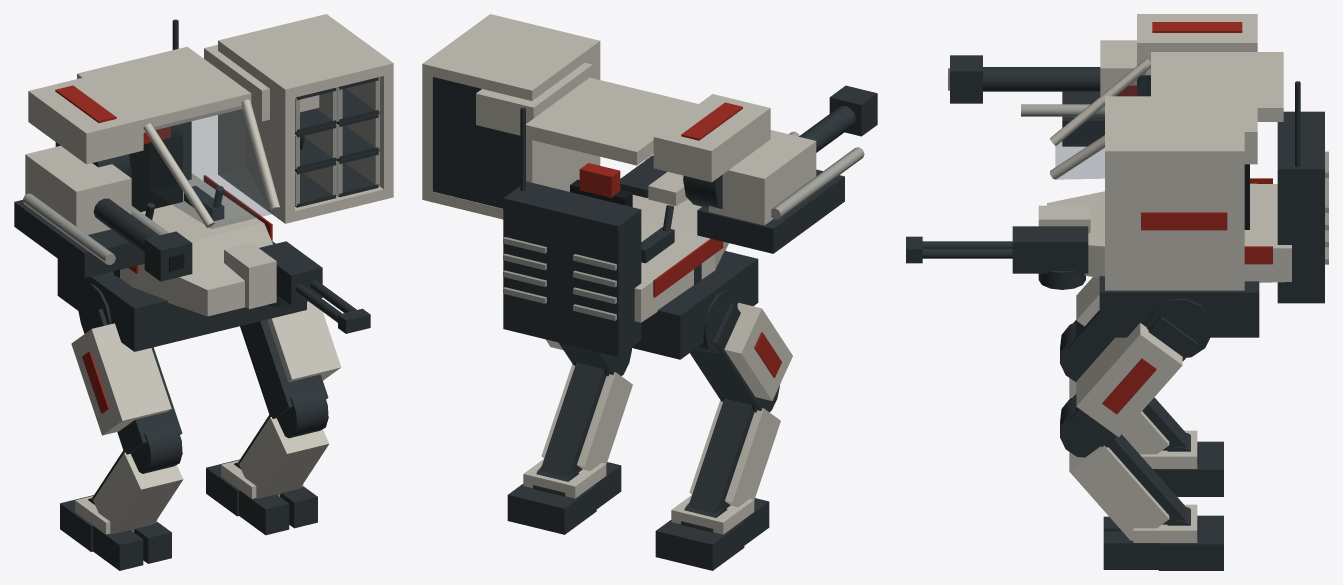
3 views of the same model, side by side, from view 1: azimuth 30°, elevation 25°; view 2: azimuth 150°, elevation 25°; view 3: azimuth 270°, elevation 25° (orthographic). The views are drawn at different scales.
Visible parts, largest first — view 1: mech-torso-painted, mech-silo-right-painted, mech-torso-glazing, mech-hip-0-painted, mech-cannon-recoil-painted, mech-hip-1-painted, mech-knee-0-painted, mech-knee-1-painted, mech-mg-pitch-chin-painted, mech-cannon-pitch-painted, mech-ankle-1-painted, mech-ankle-0-painted (+1 smaller); view 2: mech-torso-painted, mech-silo-right-painted, mech-cannon-recoil-painted, mech-hip-0-painted, mech-knee-1-painted, mech-knee-0-painted, mech-cannon-pitch-painted, mech-ankle-0-painted, mech-ankle-1-painted, mech-seat-pilot-painted, mech-mg-pitch-chin-painted, mech-hip-1-painted; view 3: mech-torso-painted, mech-silo-right-painted, mech-hip-1-painted, mech-knee-1-painted, mech-mg-pitch-chin-painted, mech-cannon-recoil-painted, mech-ankle-1-painted, mech-ankle-0-painted, mech-knee-0-painted, mech-torso-glazing, mech-cannon-pitch-painted, mech-hip-0-painted (+1 smaller).
Part boxes in pixels (left/top/right/bottom): mech-torso-painted: left=28, top=19, right=319, bottom=351; mech-silo-right-painted: left=218, top=14, right=393, bottom=223; mech-torso-glazing: left=150, top=105, right=272, bottom=228; mech-hip-0-painted: left=71, top=284, right=182, bottom=454; mech-cannon-recoil-painted: left=25, top=145, right=192, bottom=281; mech-hip-1-painted: left=240, top=301, right=341, bottom=418; mech-knee-0-painted: left=92, top=424, right=183, bottom=534; mech-knee-1-painted: left=238, top=388, right=329, bottom=498; mech-mg-pitch-chin-painted: left=224, top=241, right=370, bottom=333; mech-cannon-pitch-painted: left=14, top=193, right=168, bottom=278; mech-ankle-1-painted: left=206, top=459, right=317, bottom=535; mech-ankle-0-painted: left=60, top=495, right=171, bottom=570; mech-torso-painted: left=476, top=62, right=770, bottom=359; mech-silo-right-painted: left=422, top=14, right=600, bottom=219; mech-cannon-recoil-painted: left=708, top=85, right=877, bottom=225; mech-hip-0-painted: left=690, top=290, right=792, bottom=410; mech-knee-1-painted: left=540, top=348, right=632, bottom=477; mech-knee-0-painted: left=688, top=385, right=780, bottom=513; mech-cannon-pitch-painted: left=697, top=131, right=864, bottom=253; mech-ankle-0-painted: left=655, top=495, right=769, bottom=570; mech-ankle-1-painted: left=507, top=459, right=621, bottom=534; mech-seat-pilot-painted: left=570, top=163, right=674, bottom=263; mech-mg-pitch-chin-painted: left=620, top=155, right=687, bottom=205; mech-hip-1-painted: left=545, top=339, right=624, bottom=374; mech-torso-painted: left=1047, top=14, right=1328, bottom=337; mech-silo-right-painted: left=1105, top=96, right=1244, bottom=290; mech-hip-1-painted: left=1068, top=298, right=1212, bottom=447; mech-knee-1-painted: left=1060, top=396, right=1187, bottom=540; mech-mg-pitch-chin-painted: left=906, top=205, right=1090, bottom=273; mech-cannon-recoil-painted: left=948, top=40, right=1138, bottom=103; mech-ankle-1-painted: left=1103, top=504, right=1223, bottom=570; mech-ankle-0-painted: left=1140, top=430, right=1223, bottom=496; mech-knee-0-painted: left=1060, top=322, right=1187, bottom=454; mech-torso-glazing: left=1055, top=66, right=1145, bottom=179; mech-cannon-pitch-painted: left=1021, top=91, right=1104, bottom=146; mech-hip-0-painted: left=1068, top=277, right=1114, bottom=364.
Bounding box in the file's own units: 18.83 × 24.21 × 20.04.
